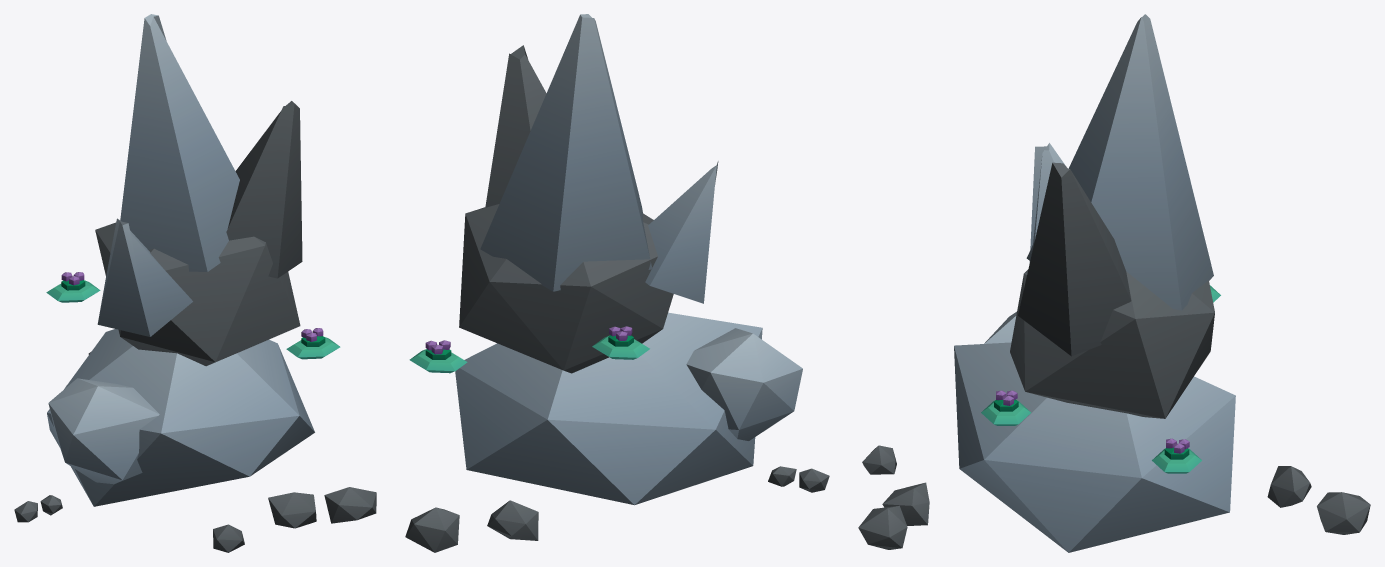
Rendered from crag_rock.glb.
3 renders of one model, left to right at view 1: azimuth 30°, elevation 25°; view 2: azimuth 150°, elevation 25°; view 3: azimuth 270°, elevation 25°, orthographic. The views are drawn at different scales.
Visible parts, largest first — view 1: crag_rock; view 2: crag_rock; view 3: crag_rock.
Boxes of the visible parts, x1,y1,x2,y2 form: crag_rock: [14, 14, 376, 552]; crag_rock: [405, 14, 829, 552]; crag_rock: [858, 14, 1370, 552].
Size of the model in its own units: 6.52 by 8.77 by 8.1.
Materials: 1 (1 with a texture image).
